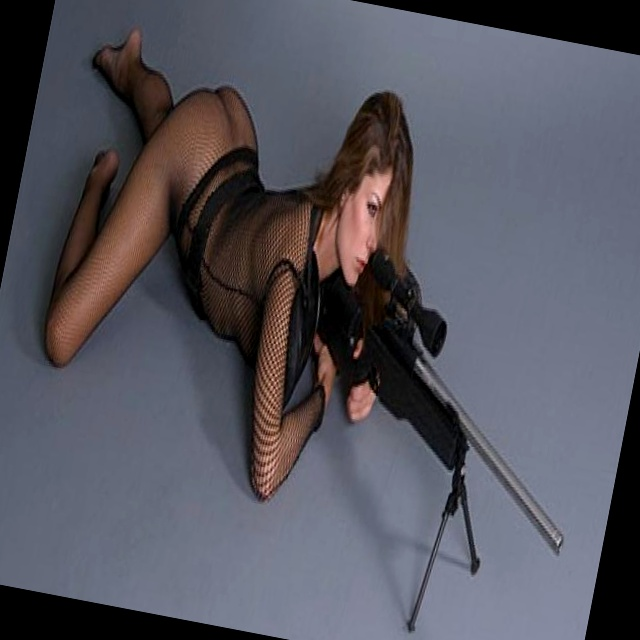gun: (255, 231, 626, 640)
